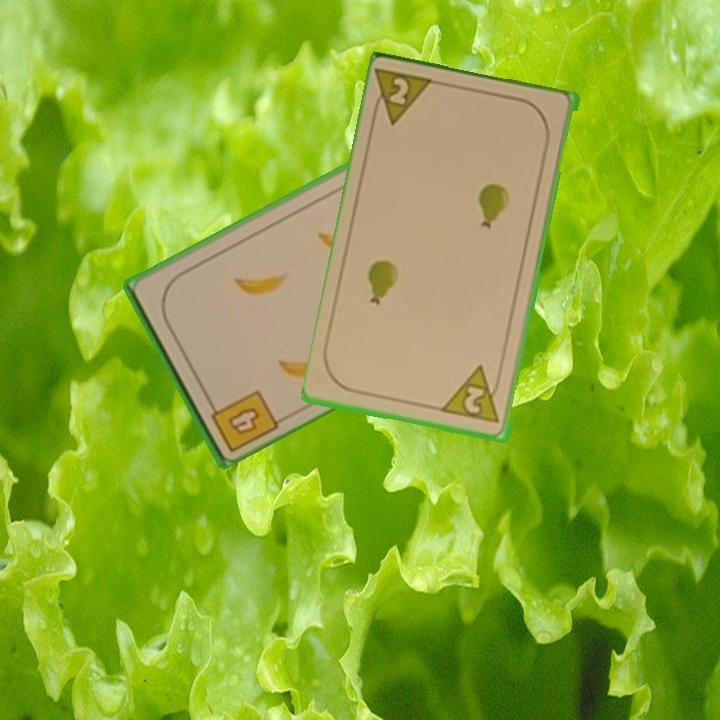2p: (368, 65, 440, 129), (440, 363, 503, 427)
4b: (204, 385, 281, 455)
